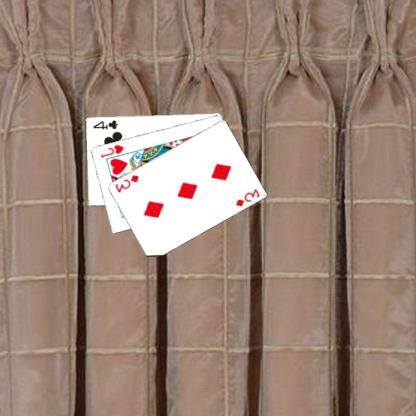3D: (114, 172, 142, 194), (235, 186, 262, 207)
4C: (92, 118, 120, 130)
JH: (100, 142, 127, 159)
